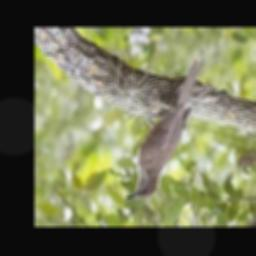Cuckoo: (126, 56, 205, 201)
